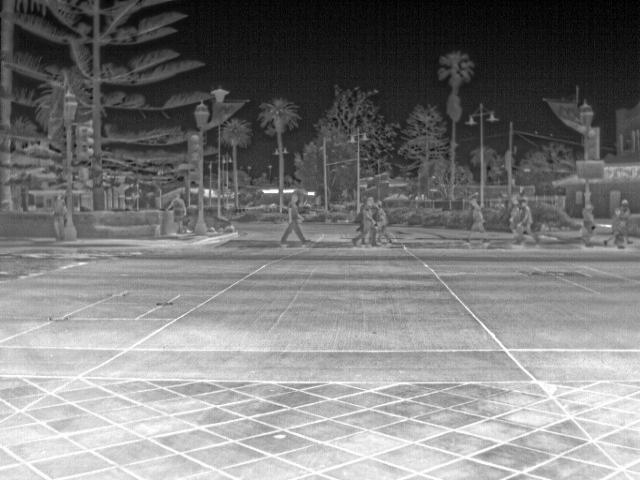person: (282, 194, 315, 247), (461, 202, 492, 246), (602, 204, 631, 246), (373, 204, 396, 248), (360, 198, 378, 246), (579, 200, 598, 244), (167, 190, 191, 224), (521, 202, 539, 244), (53, 197, 68, 240)
